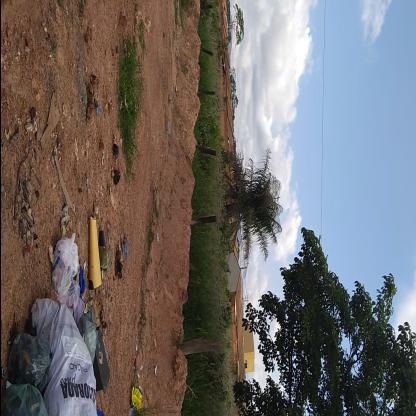lixo: (7, 214, 113, 416)
